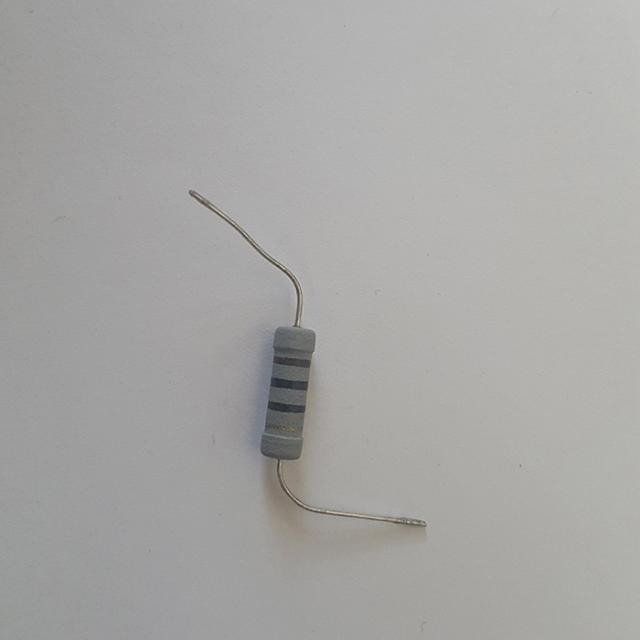black: (272, 376, 308, 389), (267, 400, 304, 412)
brown: (274, 354, 309, 367)
gold: (264, 422, 303, 432)
resistor: (246, 317, 331, 471)
